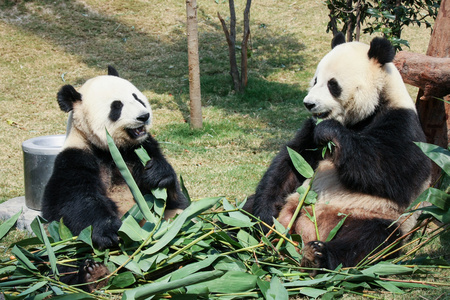panda: (233, 30, 440, 278), (39, 68, 200, 227)
